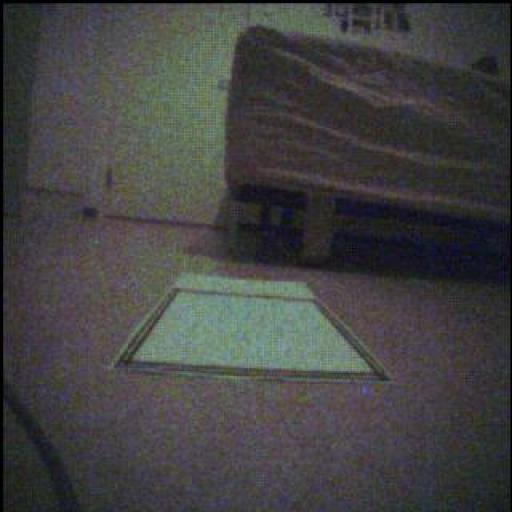pad: (116, 275, 390, 382)
